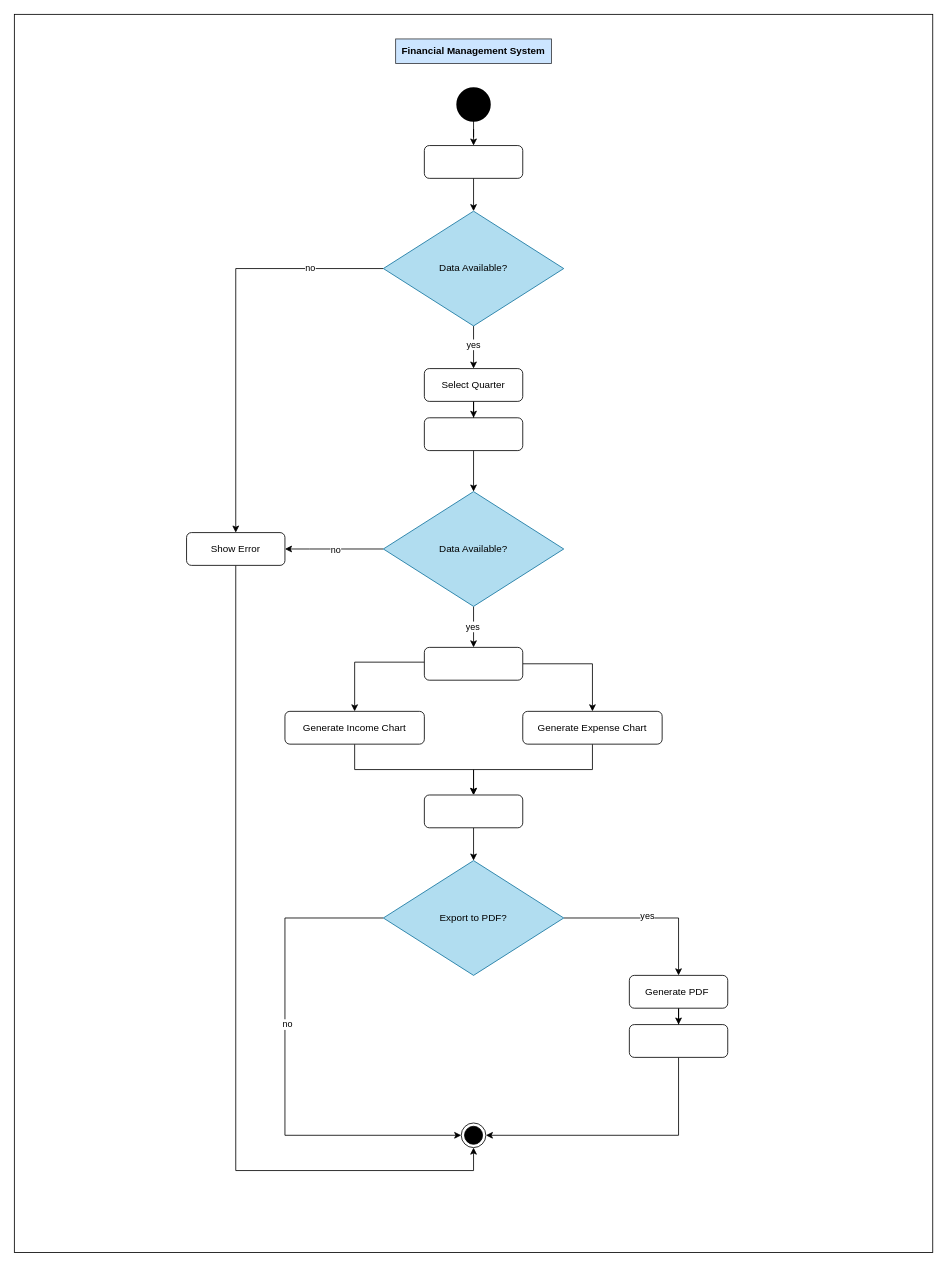
Image size: 947x1267. Some labels were removed from this diagram. Here are the shapes that lost their labels. From the top down, the box of each, then its label:
(424, 145, 523, 178): Login
(424, 417, 523, 451): Retrieve Financial Data
(424, 647, 523, 680): Calculate Totals
(424, 794, 523, 828): Create Report
(629, 1024, 728, 1057): Save File
